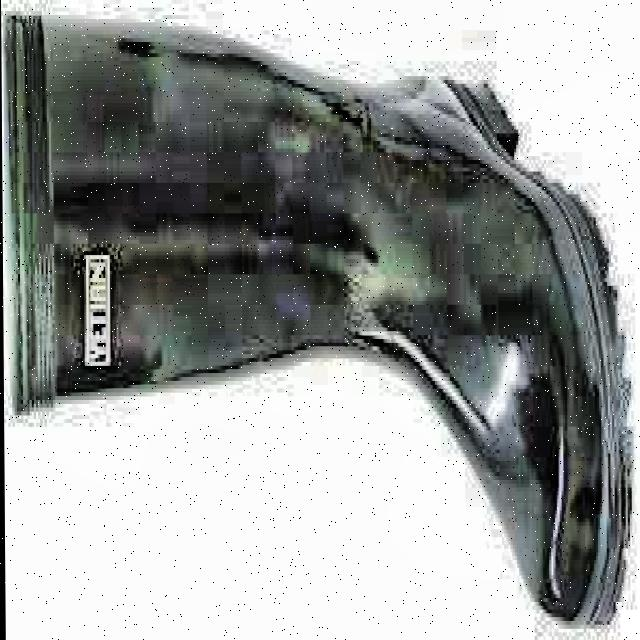shoes: (2, 0, 634, 617)
